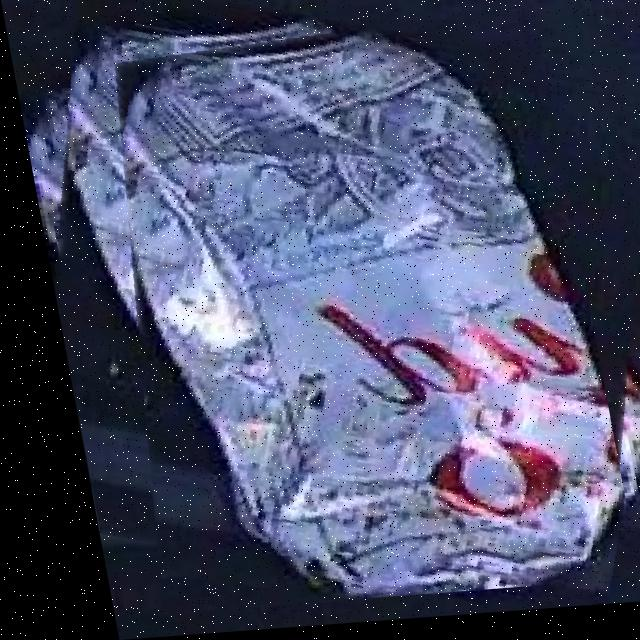can: (107, 30, 601, 602)
